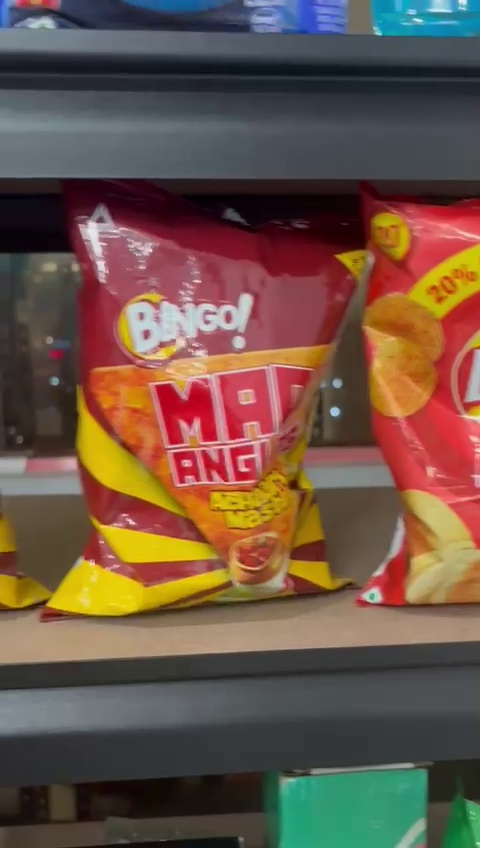Bingo Mad Angles: (68, 201, 334, 608)
